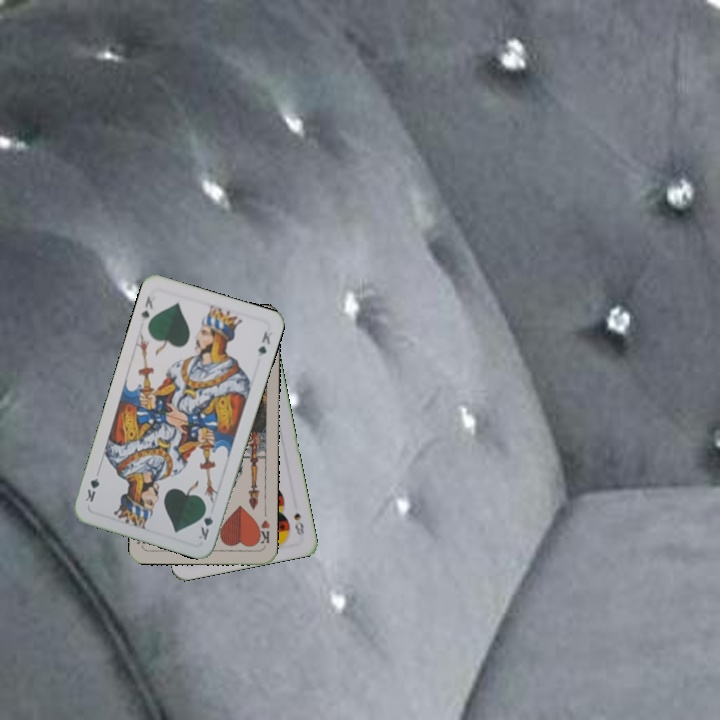GK: (194, 503, 216, 543), (137, 292, 155, 325)
HK: (253, 516, 272, 549)
S8: (290, 509, 307, 540)
